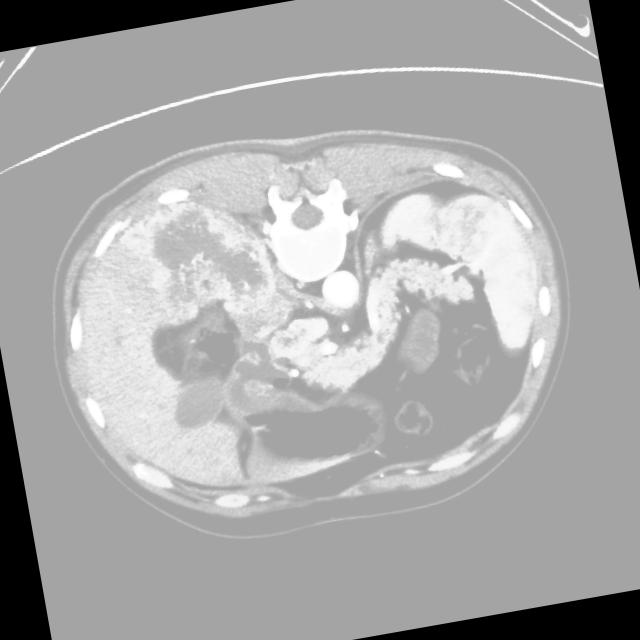TUMOR: (121, 216, 554, 533)
